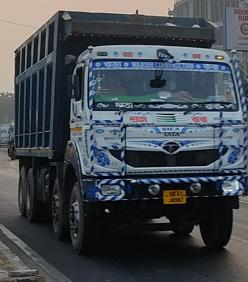Truck: (12, 6, 248, 264)
